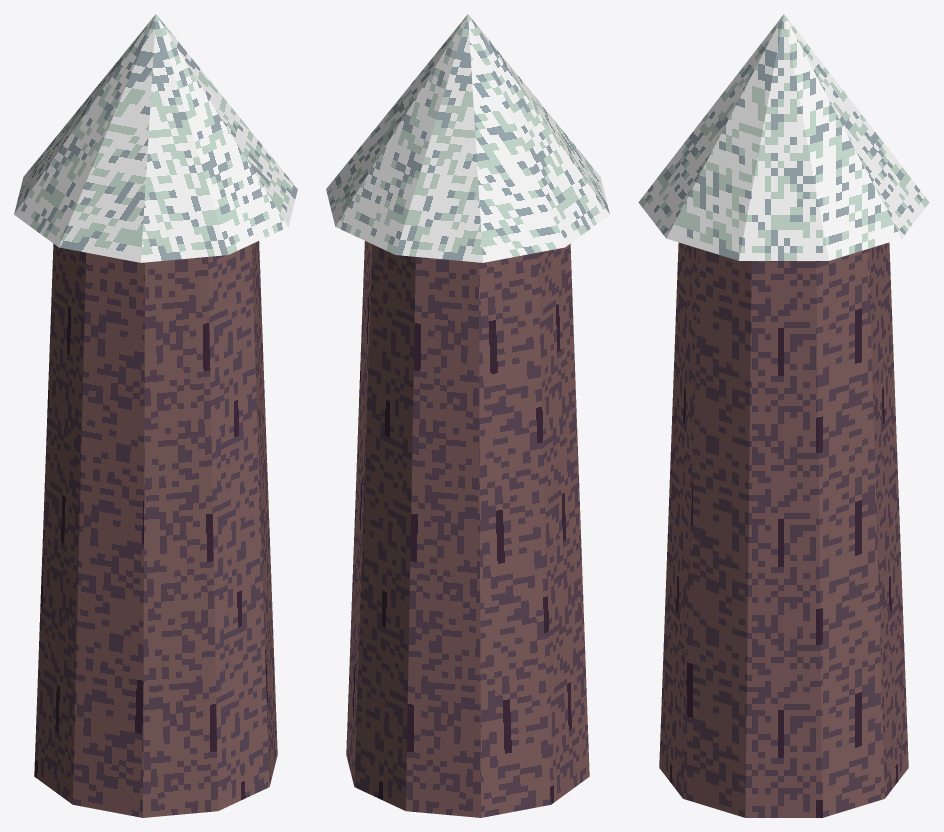
Rendered from aldeia_cacadores_torre_vigia.glb.
3 views of the same model, side by side, from view 1: azimuth 30°, elevation 25°; view 2: azimuth 150°, elevation 25°; view 3: azimuth 270°, elevation 25° (orthographic).
Visible parts, largest first — view 1: aldeia_cacadores_torre_vigia; view 2: aldeia_cacadores_torre_vigia; view 3: aldeia_cacadores_torre_vigia.
Part boxes in pixels (<box>): aldeia_cacadores_torre_vigia: <box>14,14,297,817</box>; aldeia_cacadores_torre_vigia: <box>326,14,609,817</box>; aldeia_cacadores_torre_vigia: <box>638,14,929,817</box>.
Bounding box in the file's own units: 2.66 × 8 × 2.8.
2 materials, 2 textured.
